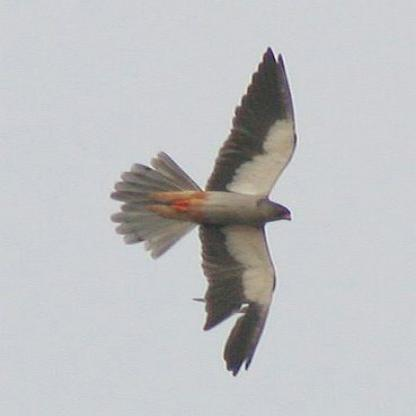Burung: (106, 49, 299, 376)
